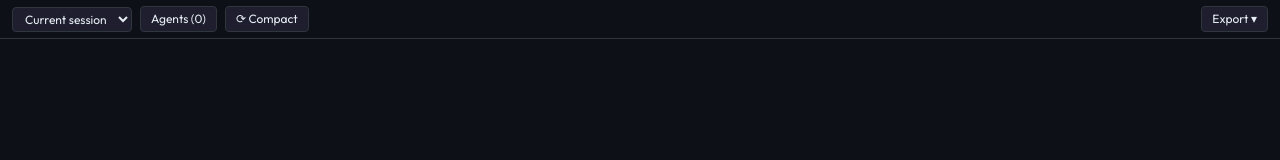
it: SessionToolbar › toggles agent dropdown on button click
This screenshot has width=1280, height=160.
// Click to open
Click the button "Agents (0)" at [178, 19], box [140,6,217,32]
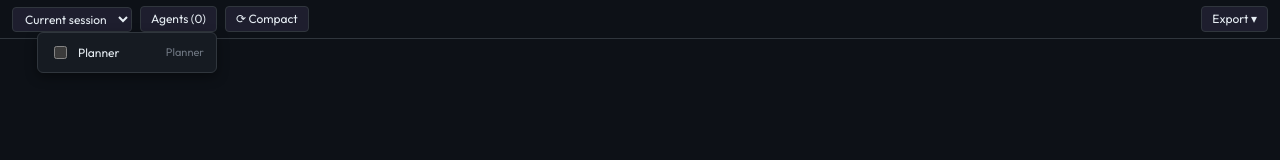
Expected: the number of checkboxes is 1, [54,46,67,59]
// Click to close
Click the button "Agents (0)" at [178, 19], box [140,6,217,32]
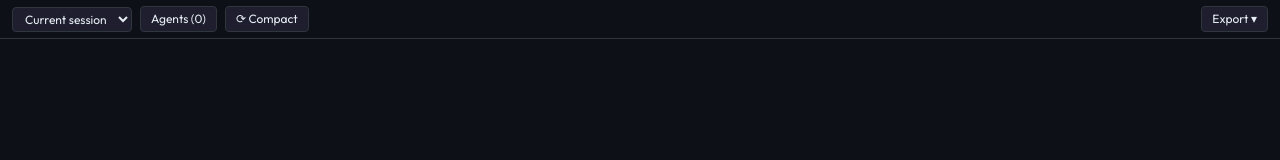
Expected: no checkboxes are shown
